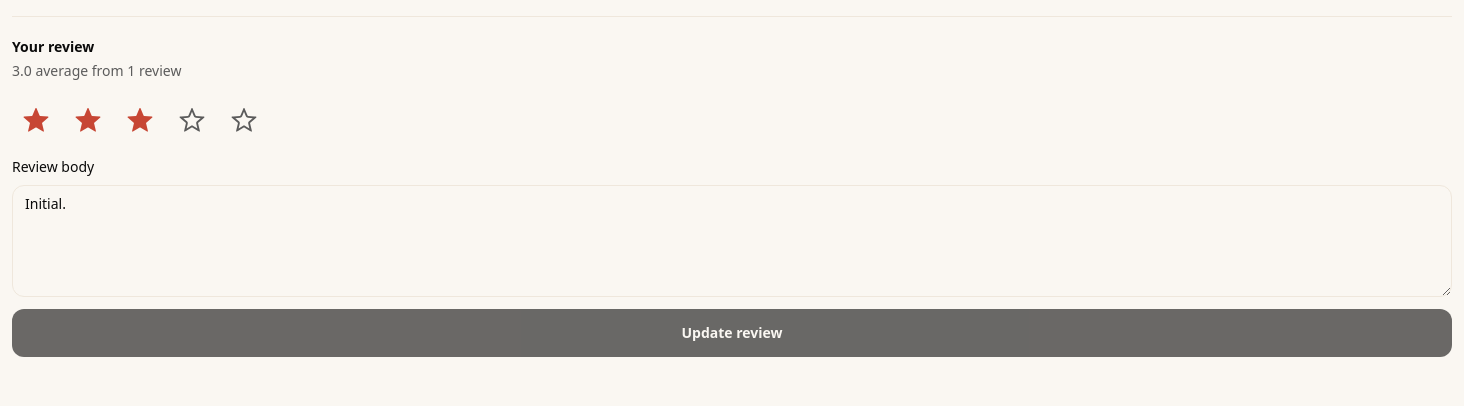
Test: FrameworkReviewPanel › prefills and updates an existing review
Replace the text in the text box with placeholder "What changed after using this Framework?" with "Updated.". click: (732, 241)
box: 12,185 -> 1452,297
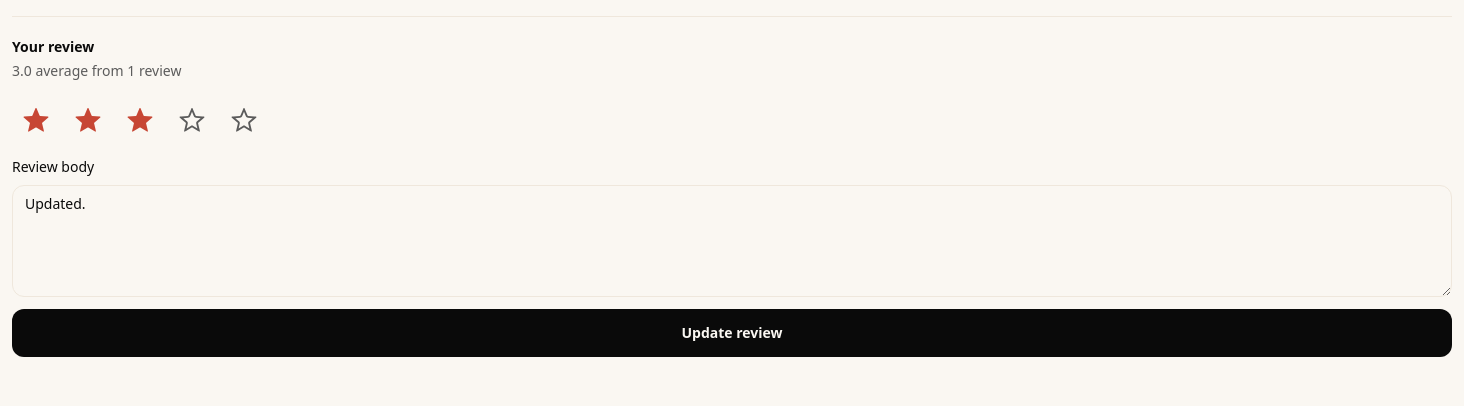
Click the button "Update review". click: (732, 333)
box: 12,309 -> 1452,357
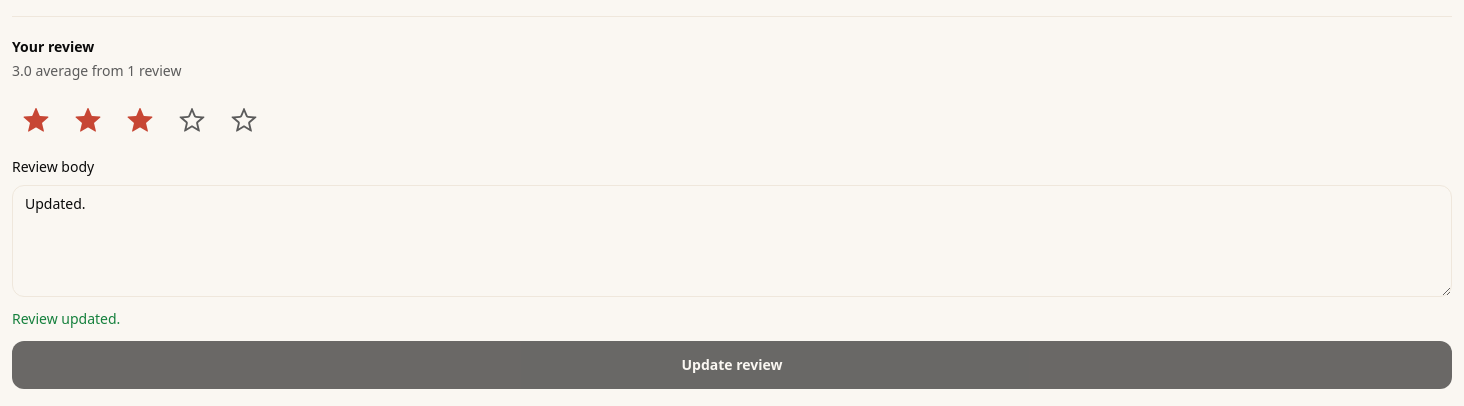
Expected: the text "Review updated." is shown, 12,309 -> 120,328
